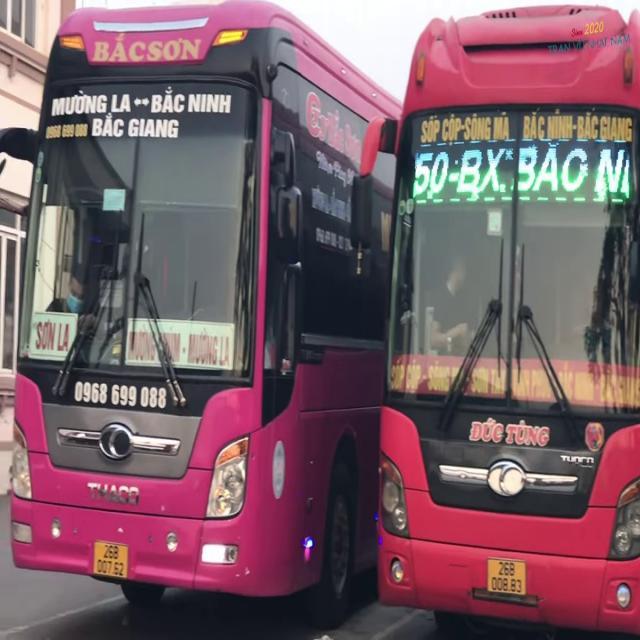bien_vang: (488, 555, 528, 600), (93, 539, 126, 579)
